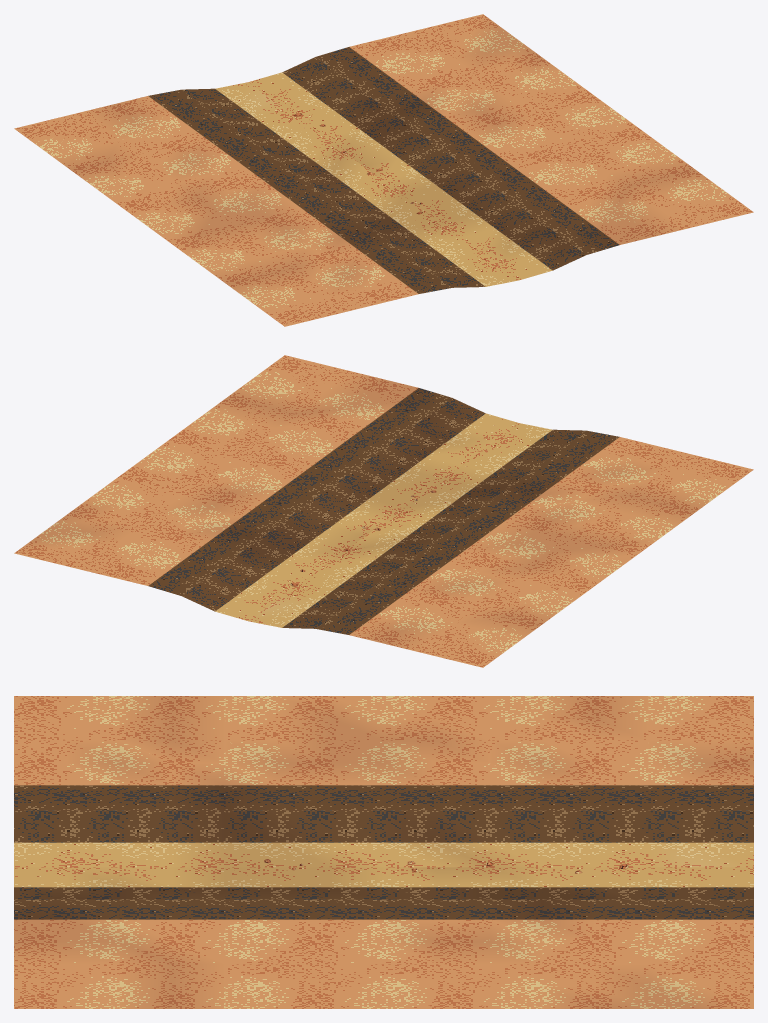
Rendered from wland.riverbed__canyon.glb.
3 renders of one model, top to bottom at view 1: azimuth 30°, elevation 25°; view 2: azimuth 150°, elevation 25°; view 3: azimuth 270°, elevation 25°, orthographic. The views are drawn at different scales.
Parts seen in each view (by area): view 1: kit_shell_ground; view 2: kit_shell_ground; view 3: kit_shell_ground.
Part boxes in pixels (<box>): kit_shell_ground: <box>14,14,753,326</box>; kit_shell_ground: <box>14,355,753,667</box>; kit_shell_ground: <box>14,696,753,1008</box>.
Bounding box in the file's own units: 32 × 0.7 × 32.
Materials: 4 (4 with a texture image).
